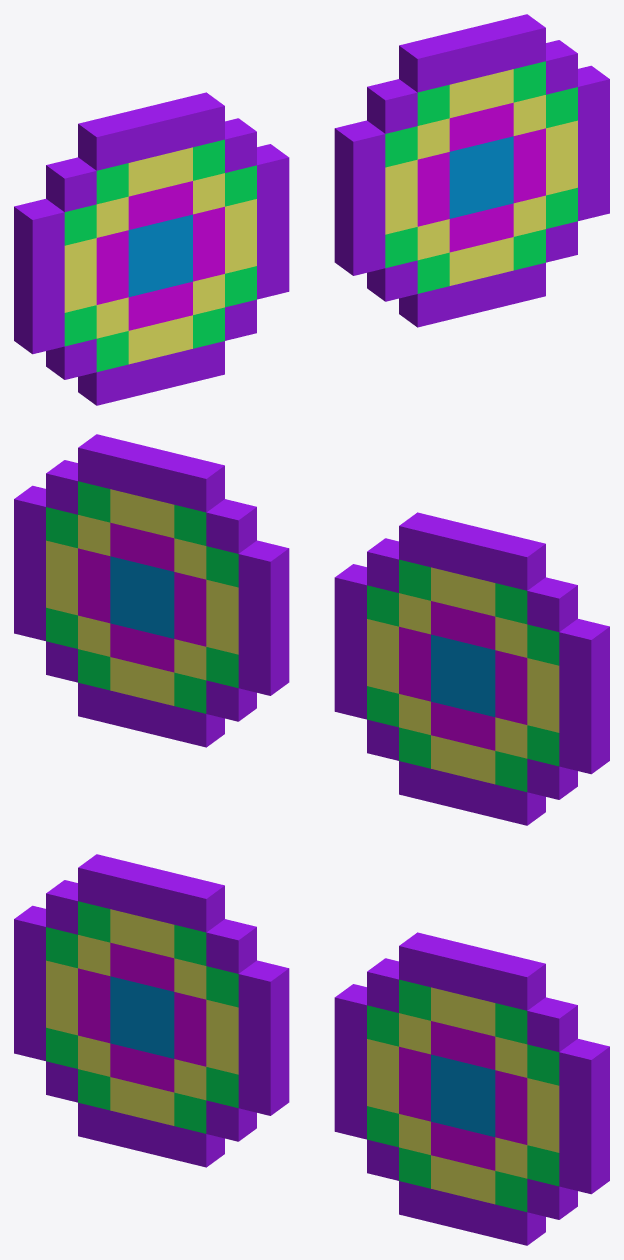
3 views of the same model, one above another, from view 1: azimuth 30°, elevation 25°; view 2: azimuth 150°, elevation 25°; view 3: azimuth 330°, elevation 25° (orthographic).
Parts seen in each view (by area): view 1: 53; view 2: 53; view 3: 53.
Boxes of the visible parts, left/top/right/bottom form: 53: left=14, top=14, right=609, bottom=405; 53: left=14, top=434, right=609, bottom=825; 53: left=14, top=854, right=609, bottom=1245.
Bounding box in the file's own units: 0.7087 × 0.315 × 0.0394.
Materials: 1 (1 with a texture image).
